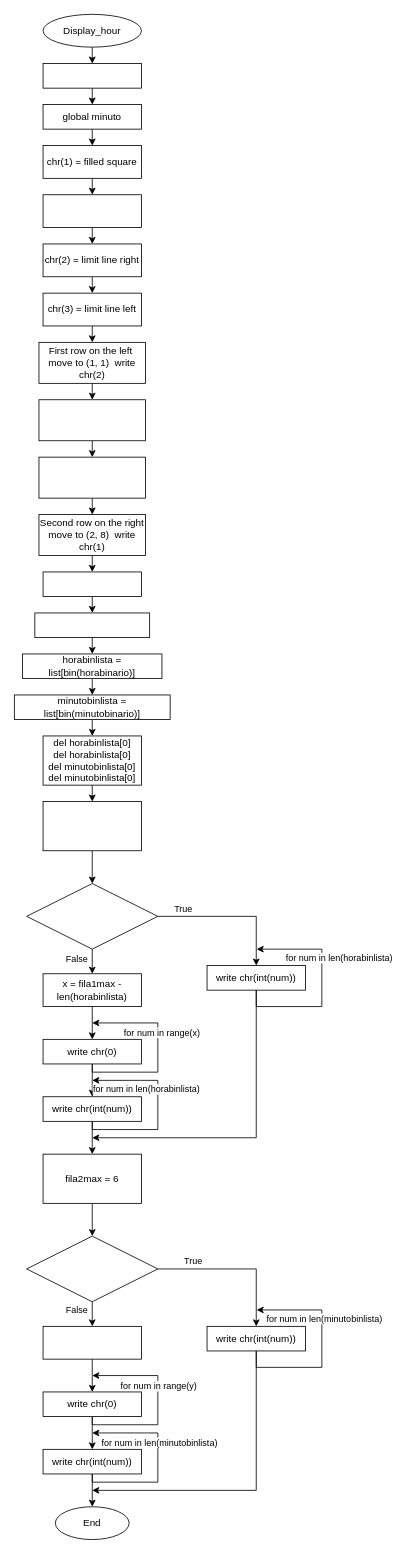
This 406x1554 diagram has some shape labels left out. Each missing label, with the centre of its shape:
chr(0) = empty square: pixel 91 211
fila1max = 5: pixel 91 826
fila1max = len(horabinlista): pixel 92 916
fila2max = len(minutobinlista): pixel 92 1268
First row on the right move to (1, 7) write chr(3): pixel 92 420
global hora: pixel 91 75
horabinario = bin(hora): pixel 91 584
minutobinario = bin(minuto): pixel 92 625
Second row on the left move to (2, 1) write chr(2): pixel 92 477
y = fila2max - len(minutobinlista): pixel 91 1342
